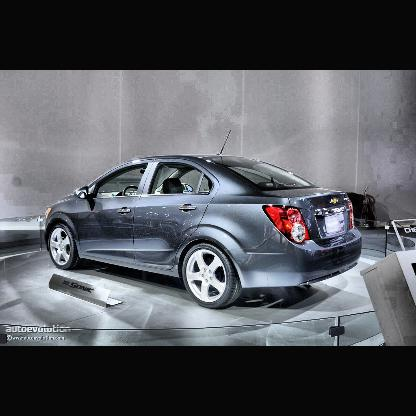Chevrolet Sonic Sedan 2012: (45, 154, 365, 312)
